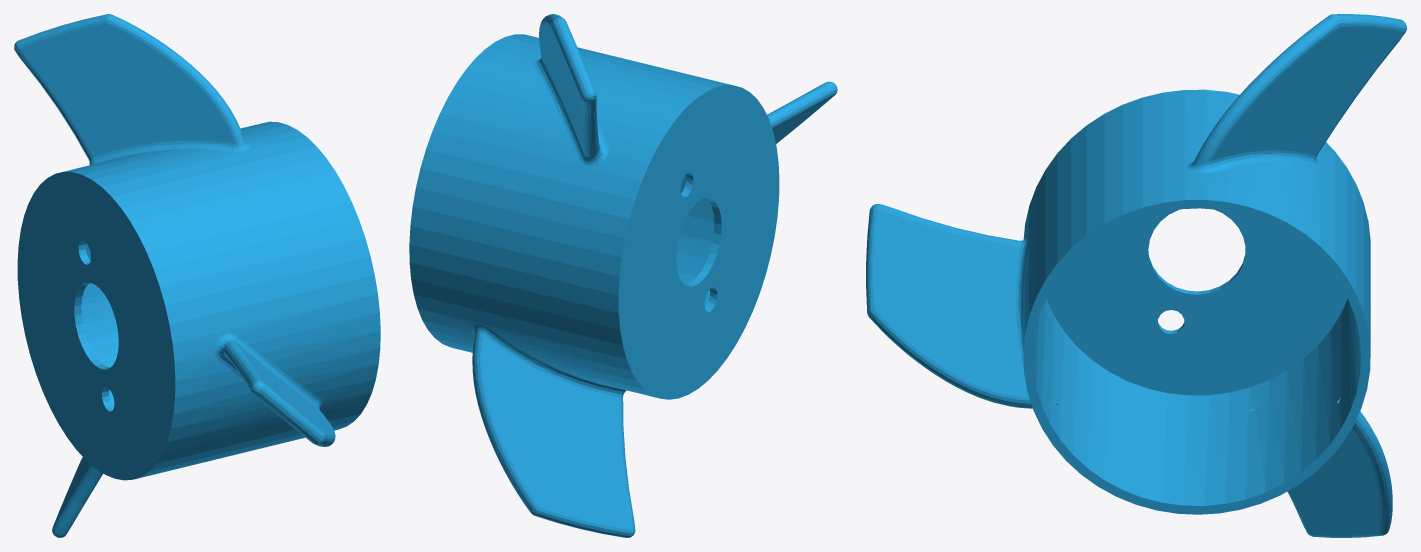
The model's file is CCWPropeller.dae.
The picture shows the model from 3 angles, left to right: view 1: azimuth 30°, elevation 25°; view 2: azimuth 150°, elevation 25°; view 3: azimuth 270°, elevation 25°; orthographic projection. The views are drawn at different scales.
Visible parts, largest first — view 1: CCW PropellerLow; view 2: CCW PropellerLow; view 3: CCW PropellerLow.
Boxes of the visible parts, left/top/right/bottom form: CCW PropellerLow: left=14, top=14, right=380, bottom=537; CCW PropellerLow: left=409, top=14, right=837, bottom=537; CCW PropellerLow: left=866, top=14, right=1406, bottom=537.
Size of the model in its own units: 0.03 by 0.0622 by 0.0701.
